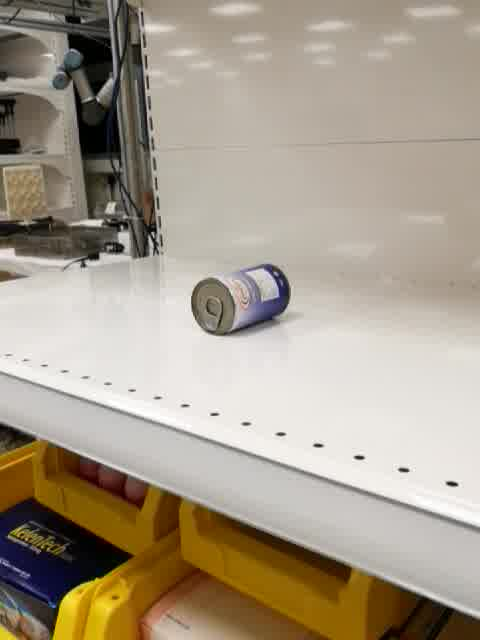sardine: (191, 263, 292, 336)
